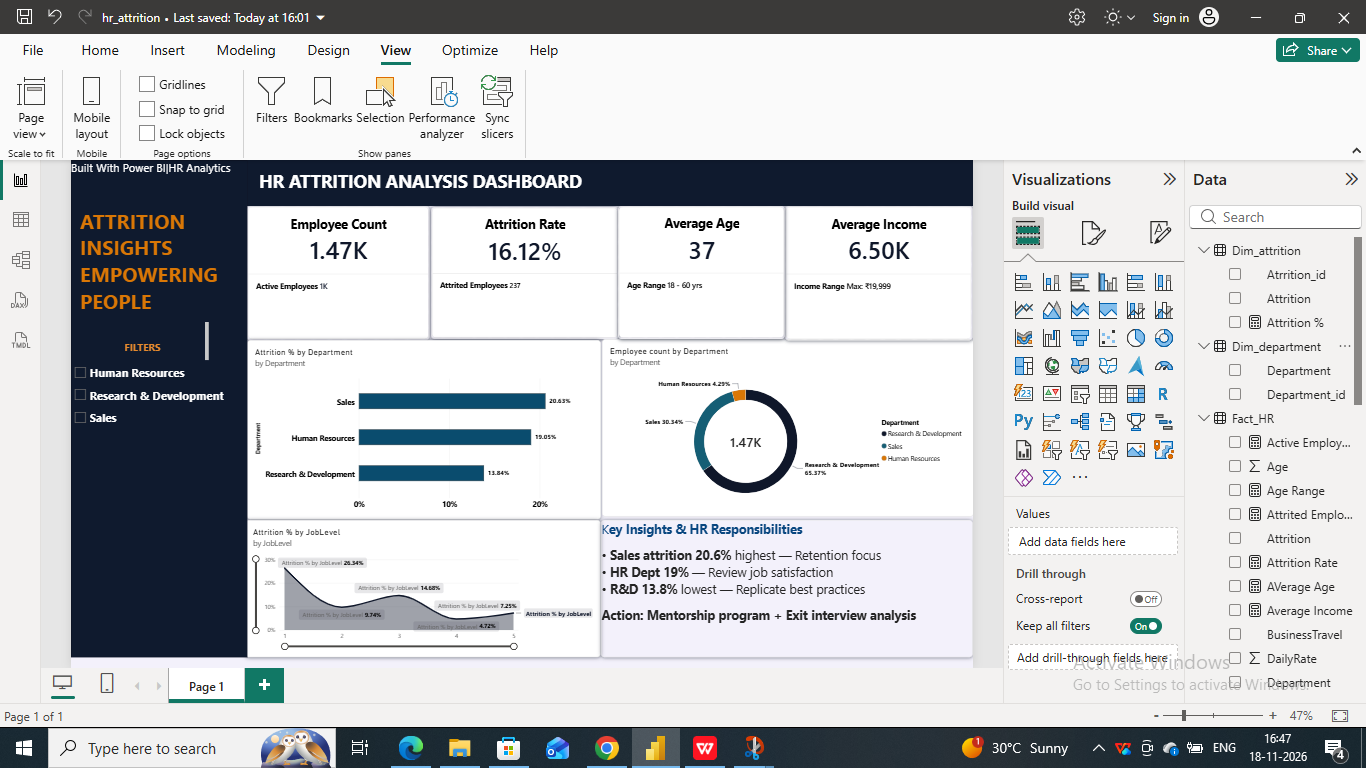

The page's visual inventory and layout, read from the dashboard file:
{"tool":"powerbi","page":{"name":"Page 1","canvas":[1920,1080],"ordinal":0},"visuals":[{"type":"cardVisual","fields":{"Data":["Dim_attrition.Attrition %"]},"box":[765.4,99.9,399.7,280.6],"z":0},{"type":"cardVisual","fields":{"Data":["CountNonNull(Fact_HR.EmployeeCount)"]},"box":[375.5,98.1,388.3,285.9],"z":1000},{"type":"barChart","fields":{"Category":["Dim_department.Department"],"Y":["Dim_attrition.Attrition %"]},"box":[375.5,384,753.1,381.9],"z":2000},{"type":"textbox","box":[1186.8,0,483.8,249.4],"z":3000},{"type":"donutChart","fields":{"Category":["Fact_HR.Department"],"Y":["CountNonNull(Fact_HR.EmployeeCount)"]},"box":[1128.9,380.6,791.5,377.6],"z":5000},{"type":"areaChart","fields":{"Category":["Fact_HR.JobLevel"],"Y":["Dim_attrition.Attrition %"]},"box":[371.2,765.9,757.3,292.3],"z":6000},{"type":"cardVisual","fields":{"Data":["Fact_HR.Average Income"]},"box":[1520.1,97.8,398.9,285.9],"z":7000},{"type":"textbox","box":[440.1,0,140.3,63.8],"z":8000},{"type":"textbox","box":[616.5,0,170.1,63.8],"z":9000},{"type":"image","box":[1186.3,129.7,242.4,40.4],"z":10000},{"type":"shape","box":[0,0,1920,98.1],"z":12000},{"type":"shape","box":[0,0,375.5,1058.1],"z":13000},{"type":"textbox","box":[399.7,0,1320.2,80.8],"z":14000},{"type":"textbox","box":[19.1,344.4,274.3,82.9],"z":15000},{"type":"slicer","fields":{"Values":["Dim_department.Department"]},"box":[0,427.3,338,204.1],"z":16000},{"type":"textbox","box":[1128.5,765.9,791.5,292.3],"z":17000},{"type":"textbox","box":[19.1,99.9,318.9,282.8],"z":18000},{"type":"textbox","box":[0,0,417,97.9],"z":19000},{"type":"cardVisual","fields":{"Data":["Fact_HR.AVerage Age"]},"box":[1164.5,97.8,355,282.8],"z":20000}]}

Visuals, with their boxes on the page's 1920x1080 design canvas (x1, y1, x2, y2). These are canvas units, not pixel positions in the 1366x768 screenshot, which may show the page scaled, cropped or inside an application window:
cardVisual - Dim_attrition.Attrition %: [765, 100, 1165, 380]
cardVisual - CountNonNull(Fact_HR.EmployeeCount): [376, 98, 764, 384]
barChart - Dim_department.Department x Dim_attrition.Attrition %: [376, 384, 1129, 766]
textbox: [1187, 0, 1671, 249]
donutChart - Fact_HR.Department x CountNonNull(Fact_HR.EmployeeCount): [1129, 381, 1920, 758]
areaChart - Fact_HR.JobLevel x Dim_attrition.Attrition %: [371, 766, 1128, 1058]
cardVisual - Fact_HR.Average Income: [1520, 98, 1919, 384]
textbox: [440, 0, 580, 64]
textbox: [616, 0, 787, 64]
image: [1186, 130, 1429, 170]
shape: [0, 0, 1920, 98]
shape: [0, 0, 376, 1058]
textbox: [400, 0, 1720, 81]
textbox: [19, 344, 293, 427]
slicer - Dim_department.Department: [0, 427, 338, 631]
textbox: [1128, 766, 1920, 1058]
textbox: [19, 100, 338, 383]
textbox: [0, 0, 417, 98]
cardVisual - Fact_HR.AVerage Age: [1164, 98, 1520, 381]
